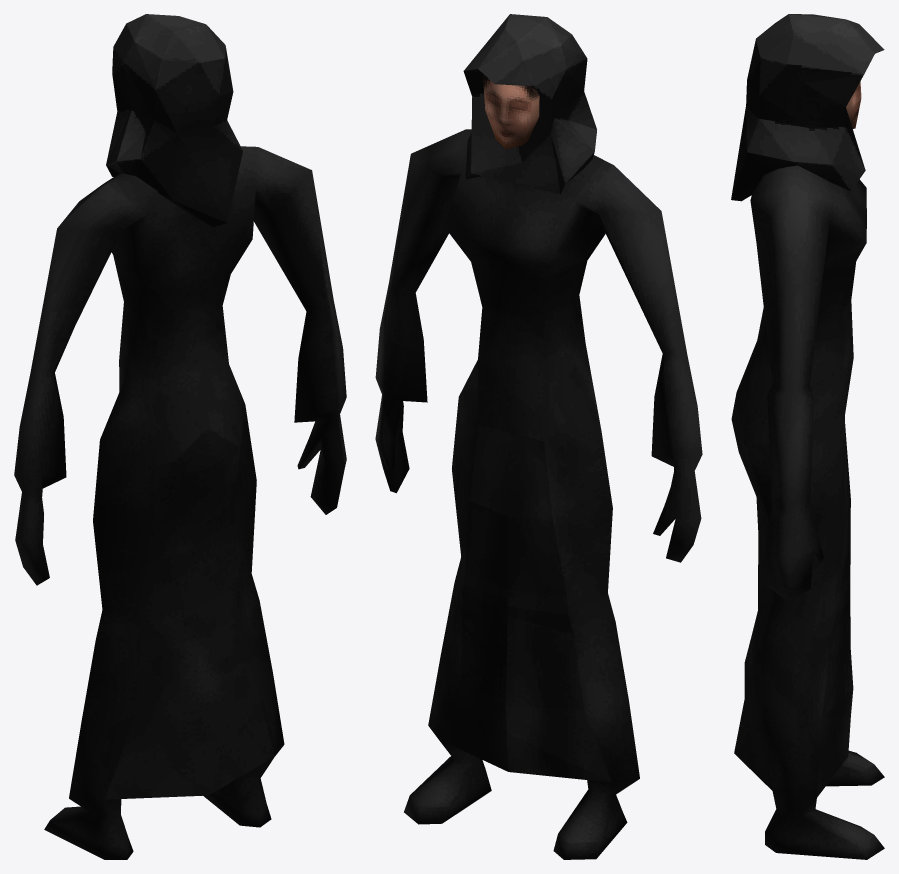
File: nun.glb
The picture shows the model from 3 angles, left to right: view 1: azimuth 30°, elevation 25°; view 2: azimuth 150°, elevation 25°; view 3: azimuth 270°, elevation 25°; orthographic projection.
Visible parts, largest first — view 1: Nun2; view 2: Nun2; view 3: Nun2.
Part boxes in pixels (left/top/right/bottom): Nun2: left=14, top=14, right=346, bottom=859; Nun2: left=375, top=14, right=702, bottom=859; Nun2: left=731, top=14, right=884, bottom=859.
Bounding box in the file's own units: 0.7864 × 1.82 × 0.3194.
1 material, 1 textured.
